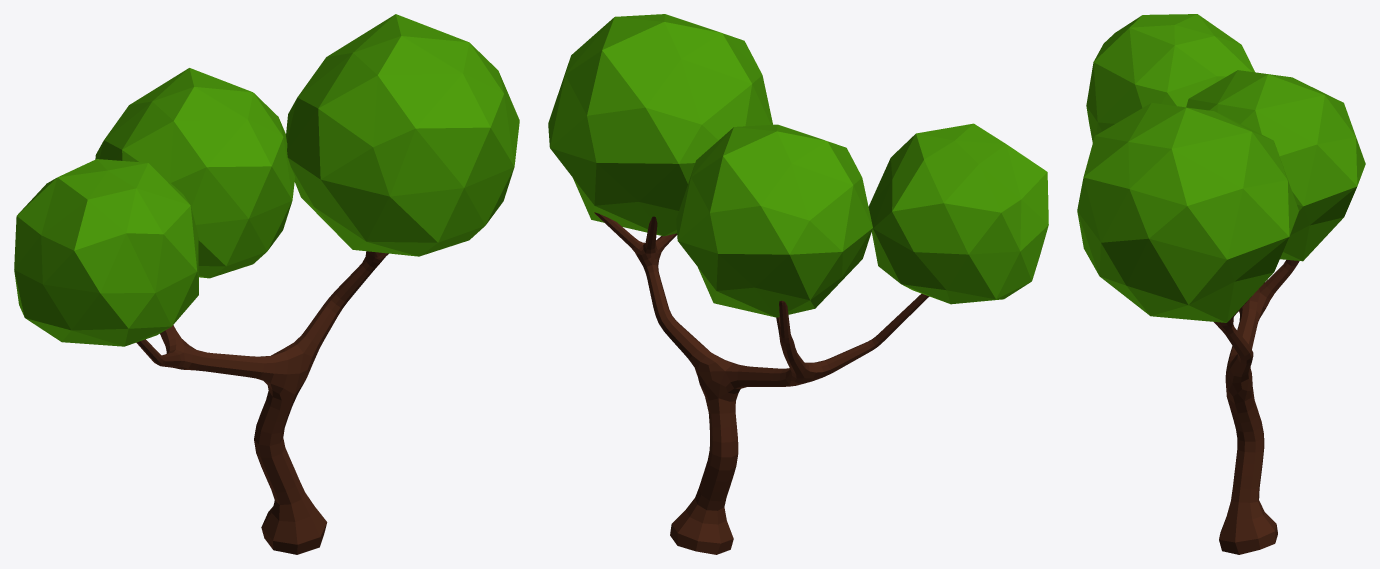
File: tree4.fbx
3 views of the same model, side by side, from view 1: azimuth 30°, elevation 25°; view 2: azimuth 150°, elevation 25°; view 3: azimuth 270°, elevation 25° (orthographic). The views are drawn at different scales.
Visible parts, largest first — view 1: Icosphere.007, Cube.001; view 2: Icosphere.007, Cube.001; view 3: Icosphere.007, Cube.001.
Boxes of the visible parts, box(x1,y1,x2,y2) form: Icosphere.007: box(14, 14, 519, 346); Cube.001: box(136, 251, 388, 554); Icosphere.007: box(548, 14, 1048, 317); Cube.001: box(594, 212, 929, 554); Icosphere.007: box(1077, 14, 1365, 322); Cube.001: box(1214, 260, 1299, 554).
Size of the model in its own units: 1516 by 1544 by 850.
